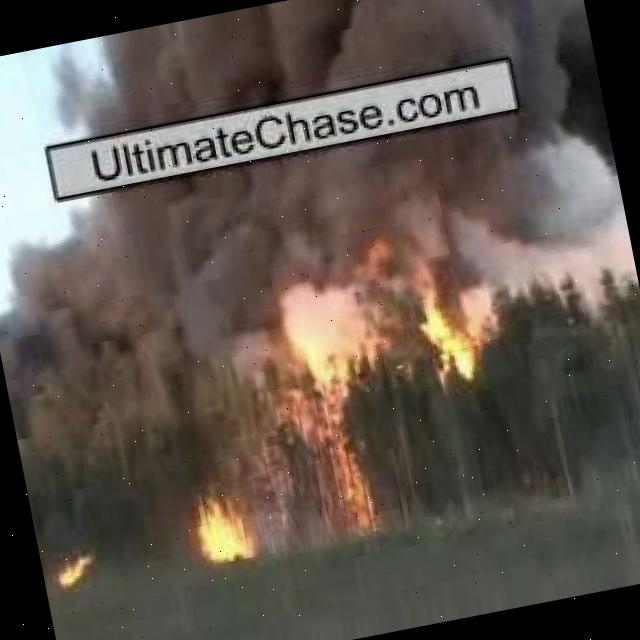fire: (277, 352, 401, 547), (402, 245, 510, 391), (191, 487, 265, 566), (57, 560, 92, 588)
